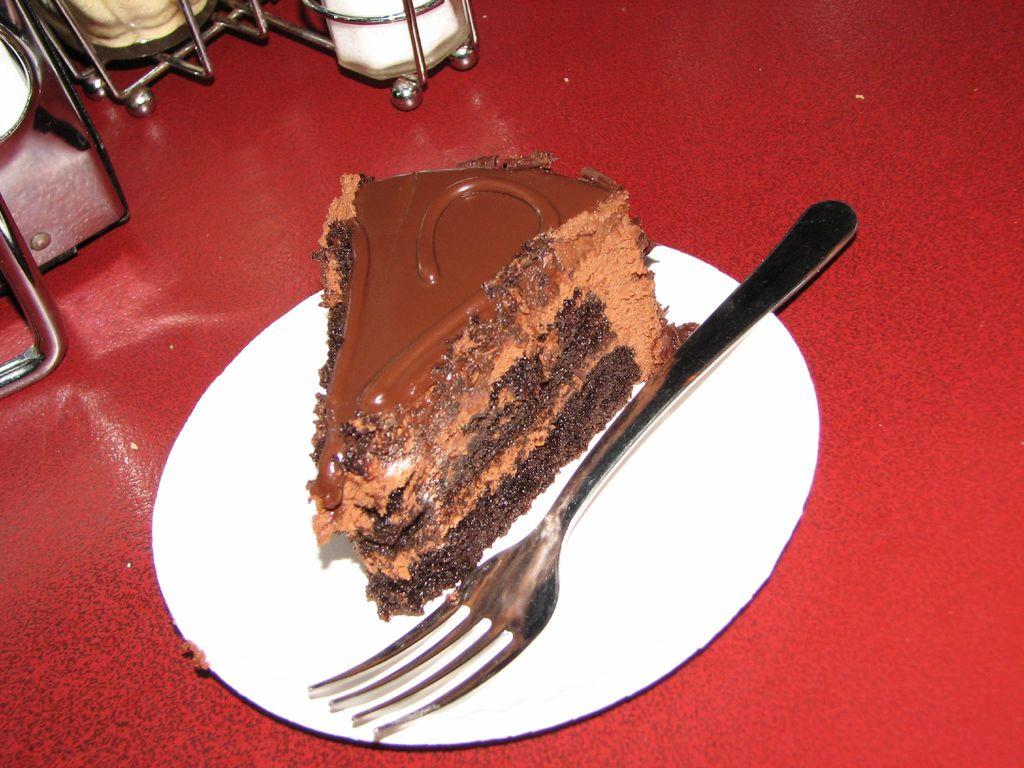cake: (303, 150, 698, 619)
